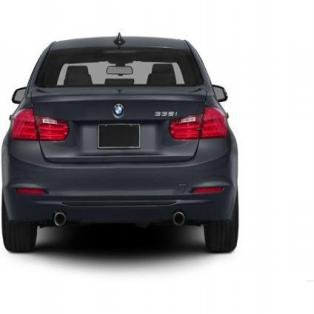Auto: (1, 32, 238, 255)
